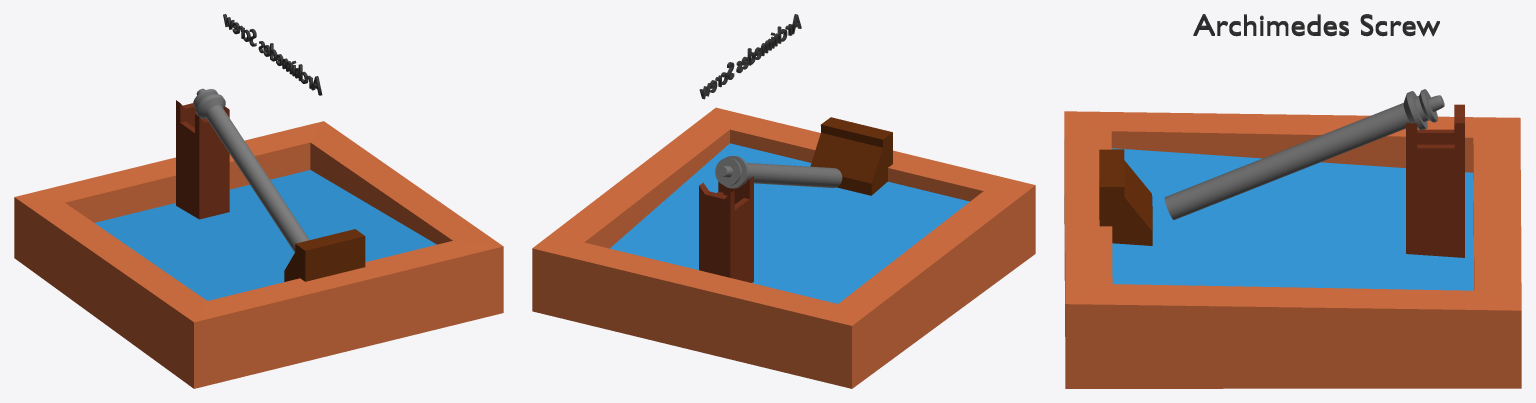
File: archimedes’ screw .blend.gltf
The picture shows the model from 3 angles, left to right: view 1: azimuth 30°, elevation 25°; view 2: azimuth 150°, elevation 25°; view 3: azimuth 270°, elevation 25°; orthographic projection. The views are drawn at different scales.
Visible parts, largest first — view 1: Plane, Cube.001, Cylinder, Cube, Text; view 2: Plane, Cube.001, Cube, Cylinder, Text; view 3: Plane, Cube.001, Cylinder, Cube, Text.
Part boxes in pixels (x1=…): Plane: x1=14, y1=121, x2=503, y2=388; Cube.001: x1=176, y1=100, x2=229, y2=219; Cylinder: x1=193, y1=88, x2=309, y2=252; Cube: x1=284, y1=229, x2=365, y2=281; Text: x1=223, y1=14, x2=322, y2=95; Plane: x1=532, y1=107, x2=1035, y2=388; Cube.001: x1=699, y1=176, x2=753, y2=282; Cube: x1=810, y1=117, x2=892, y2=195; Cylinder: x1=715, y1=156, x2=842, y2=188; Text: x1=699, y1=14, x2=801, y2=99; Plane: x1=1064, y1=111, x2=1521, y2=388; Cube.001: x1=1406, y1=104, x2=1464, y2=257; Cylinder: x1=1164, y1=89, x2=1444, y2=219; Cube: x1=1099, y1=149, x2=1152, y2=245; Text: x1=1193, y1=14, x2=1439, y2=36.
Bounding box in the file's own units: 3.21 × 2.26 × 3.21.
